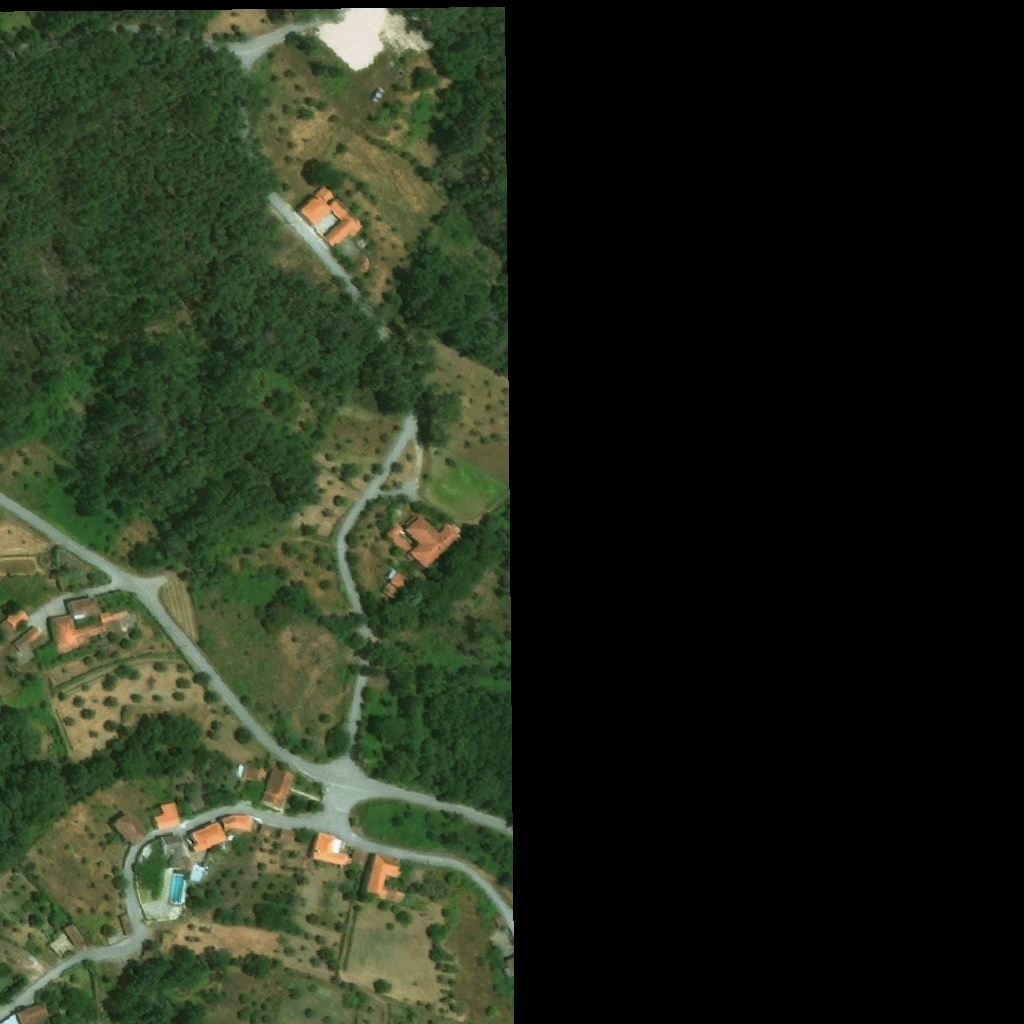0 no-damage: (383, 503, 464, 572), (50, 597, 133, 657), (293, 184, 367, 251), (361, 851, 408, 907), (306, 831, 355, 867), (258, 769, 297, 813), (48, 922, 91, 960), (111, 812, 153, 848), (183, 822, 227, 854), (376, 565, 412, 601), (147, 800, 182, 832), (251, 821, 295, 844), (11, 625, 44, 653), (235, 761, 266, 784), (17, 1005, 50, 1023), (7, 606, 29, 632), (118, 912, 136, 938), (162, 836, 182, 857), (216, 816, 238, 830)
4 un-classified: (501, 954, 520, 979)
